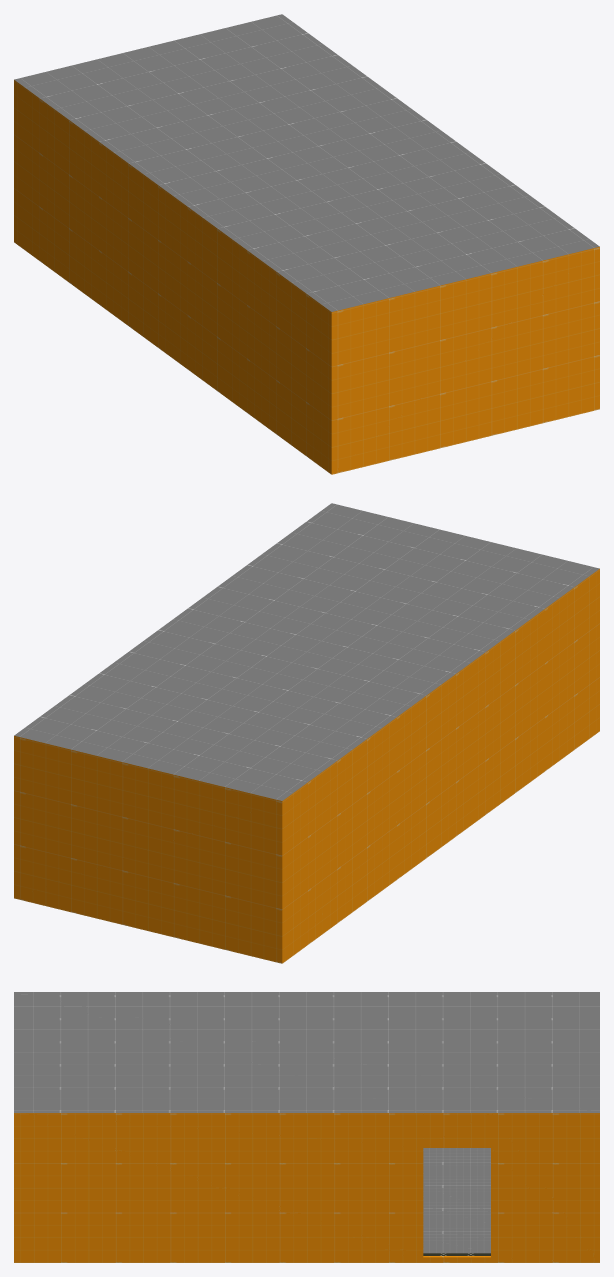
3 views of the same model, one above another, from view 1: azimuth 30°, elevation 25°; view 2: azimuth 150°, elevation 25°; view 3: azimuth 270°, elevation 25° (orthographic). The views are drawn at different scales.
Visible parts, largest first — view 1: exterior; view 2: exterior; view 3: exterior, room_001.
Boxes of the visible parts, x1=… form: exterior: x1=14, y1=14, x2=599, y2=474; exterior: x1=14, y1=503, x2=599, y2=963; exterior: x1=14, y1=992, x2=599, y2=1262; room_001: x1=423, y1=1148, x2=490, y2=1255.
Size of the model in its own units: 5231 by 3031 by 10729.
4 materials, 4 textured.
